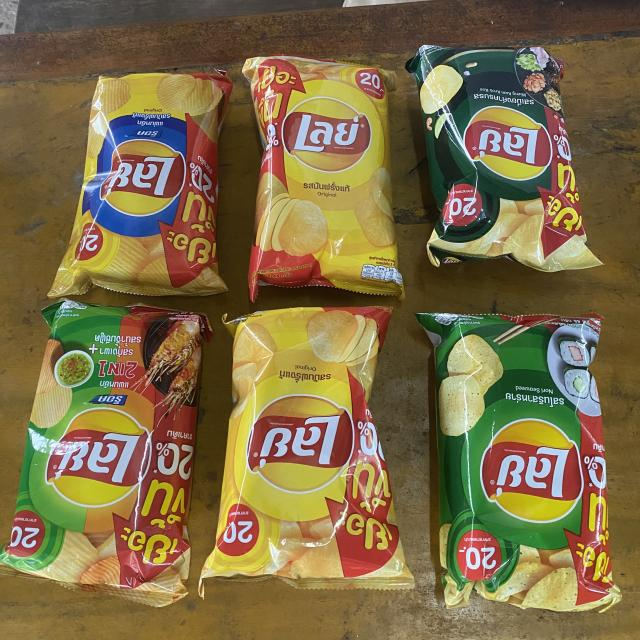plastik: (0, 300, 211, 606), (199, 306, 414, 596), (418, 314, 620, 611), (406, 45, 601, 271), (49, 71, 232, 298), (242, 55, 404, 301)
